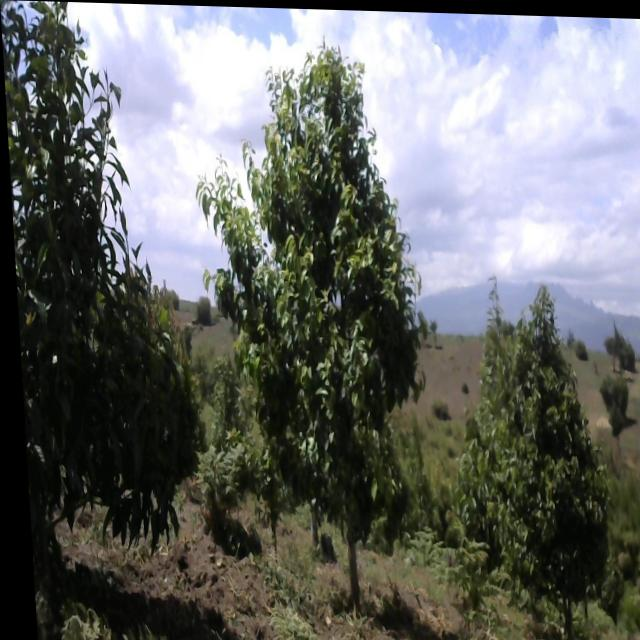Hass Avocado: (181, 9, 420, 574), (0, 6, 183, 562), (480, 289, 603, 639)
